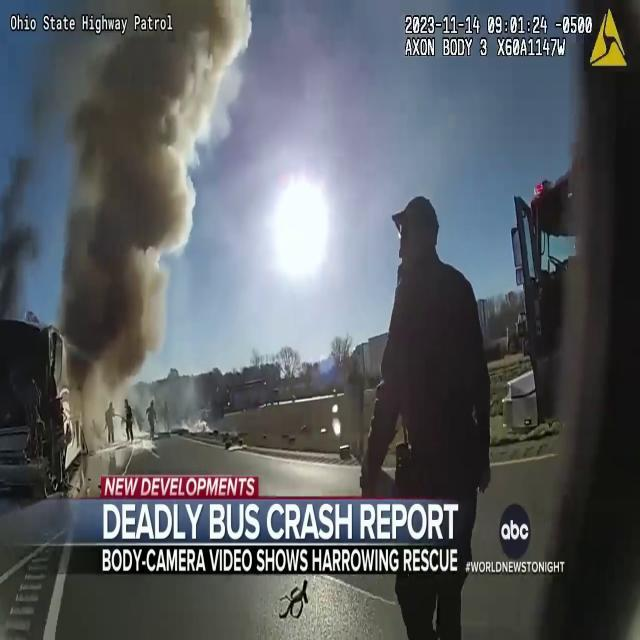Smoke: (1, 0, 253, 371)
